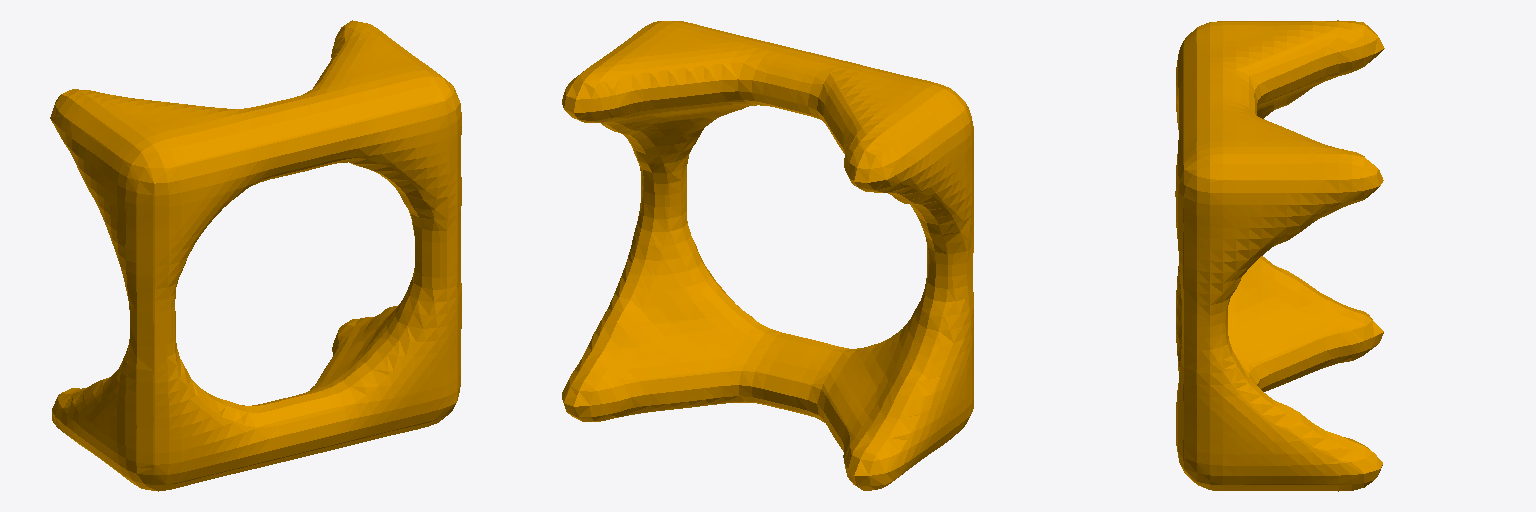
robot.urdf — T11_2:
<?xml version="1.0"?>
<robot name="T11_2">
  <link name="base_link">
    <inertial>
      <mass value="0.08251" />
      <origin xyz="0 0 0" />
      <inertia  ixx="0.0002" ixy="0.0"  ixz="0.0"  iyy="0.0002"  iyz="0.0" izz="0.0002" />
    </inertial>
    <visual>
      <geometry>
        <mesh filename="../../../meshes/egad/train/T11_2.obj" />
      </geometry>
    </visual>
    <collision>
      <geometry>
        <mesh filename="../../../meshes/egad/train/T11_2.obj" />
      </geometry>
    </collision>
  </link>
</robot>

--- Facts derived from the render (not from the file) ---
Views: 3 orthographic renders of the robot side by side, from view 1: azimuth 30°, elevation 25°; view 2: azimuth 150°, elevation 25°; view 3: azimuth 270°, elevation 25°.
Robot: T11_2 — 1 links, 0 joints (none); root link base_link; default pose: all joints at 0.
Links seen in each view (by area): view 1: base_link; view 2: base_link; view 3: base_link.
Link boxes in pixels (left/top/right/bottom): base_link: left=50, top=20, right=461, bottom=491; base_link: left=562, top=21, right=973, bottom=490; base_link: left=1175, top=20, right=1384, bottom=491.
Bounding box of the posed robot: 0.075 × 0.0416 × 0.0749 m (x, y, z).
1 mesh visuals loaded from 1 distinct referenced files (1 OBJ).